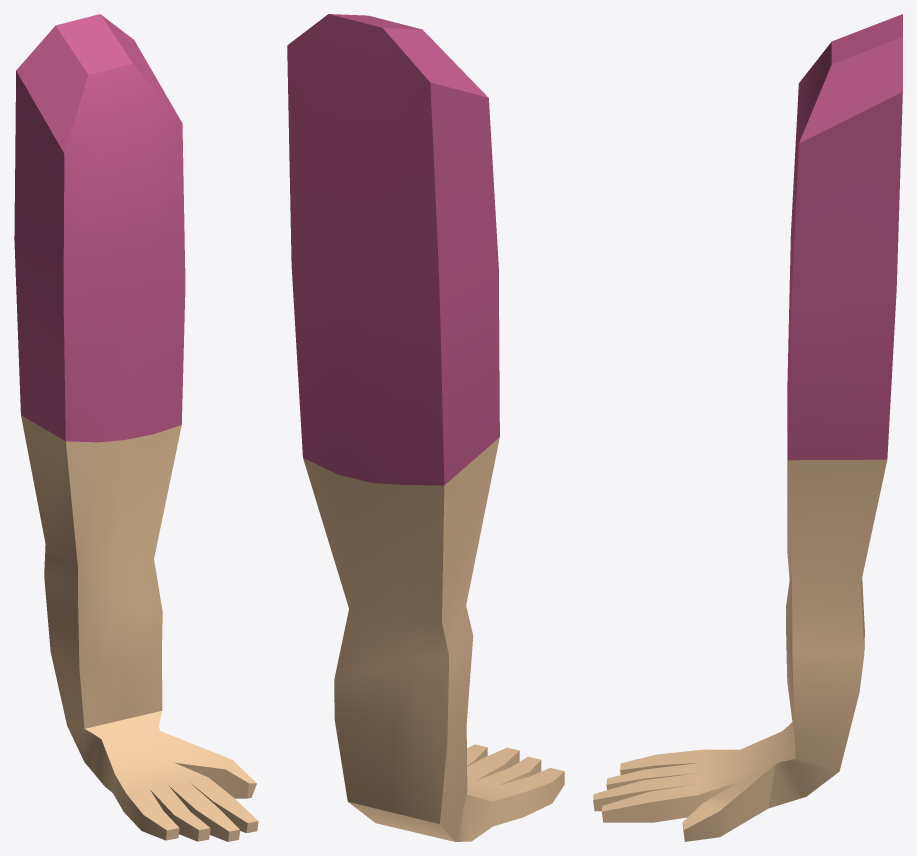
Rendered from arm90pinkshort.fbx.
The picture shows the model from 3 angles, left to right: view 1: azimuth 30°, elevation 25°; view 2: azimuth 150°, elevation 25°; view 3: azimuth 270°, elevation 25°; orthographic projection. The views are drawn at different scales.
Parts seen in each view (by area): view 1: Arm90Longer; view 2: Arm90Longer; view 3: Arm90Longer.
Part boxes in pixels (box(x1,y1,x2,y2)): Arm90Longer: box(14, 14, 258, 841); Arm90Longer: box(287, 14, 564, 841); Arm90Longer: box(593, 14, 902, 841).
Size of the model in its own units: 342 by 1645 by 592.
